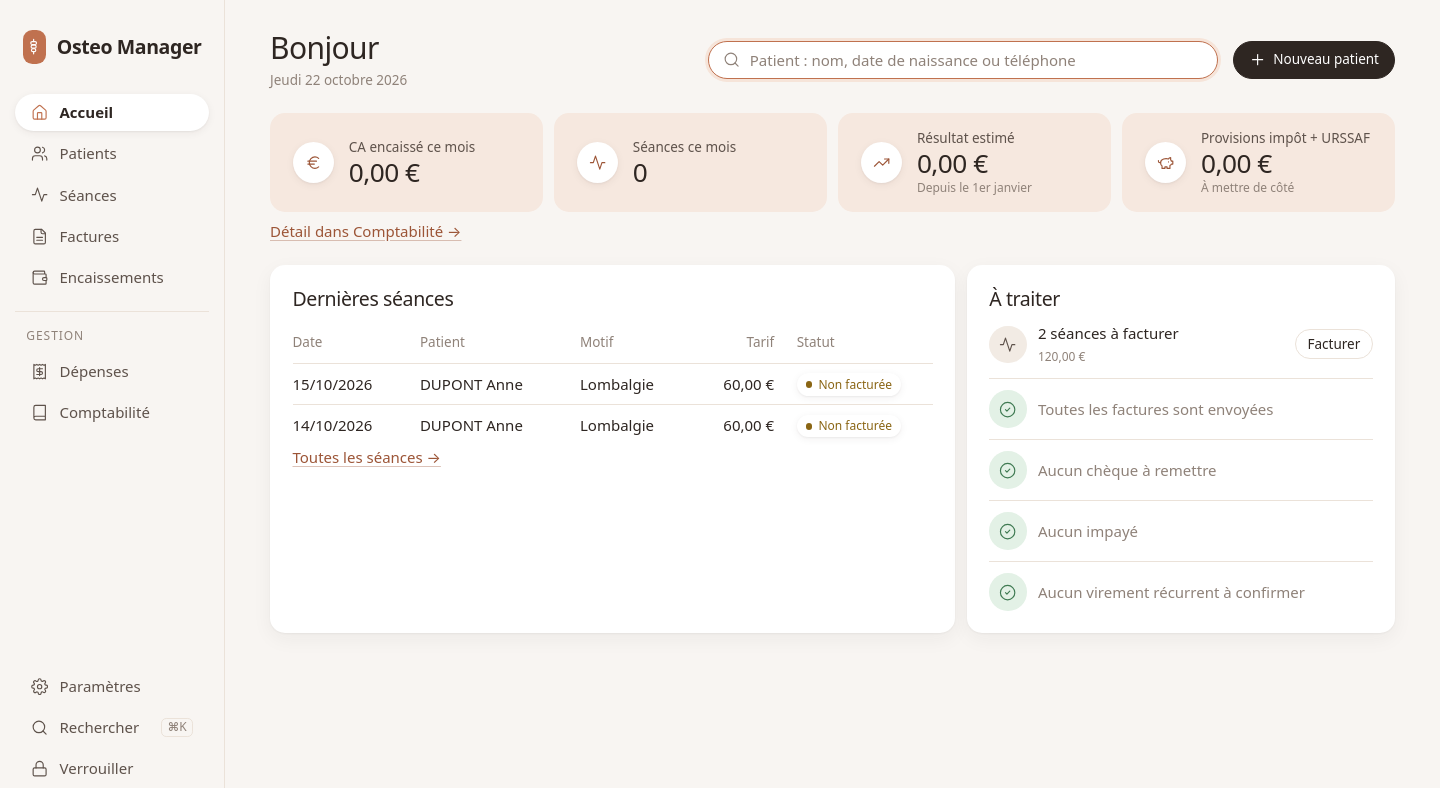
Test case: une erreur de validation s'affiche
This screenshot has width=1440, height=788.
What coordinates should you click on to do the following:
click the button with aria-label "Facturer : 2 séances à facturer"
I would click on:
 (1334, 344)
Its box is [1295,329,1372,359].
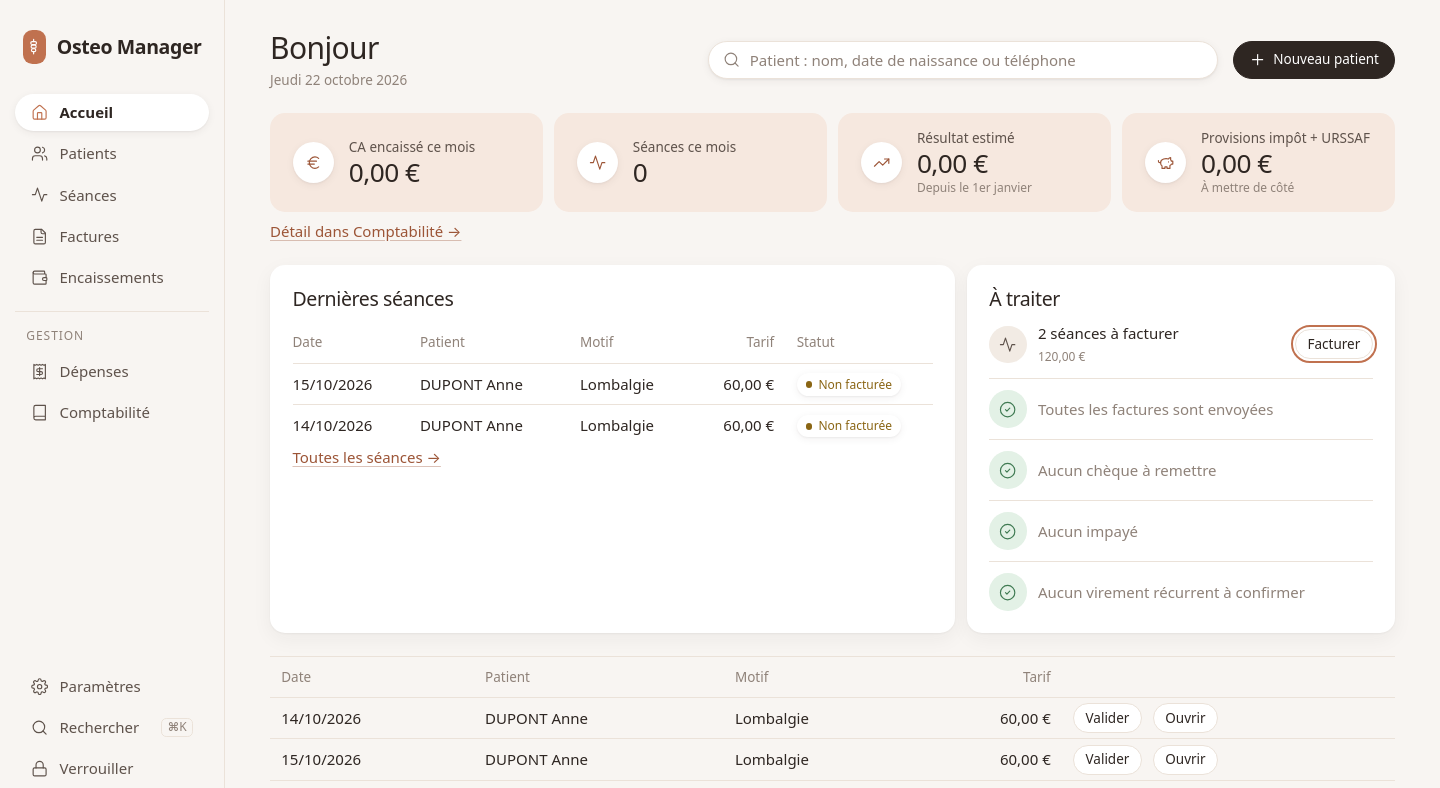
What coordinates should you click on to do the following:
click the 1st button "Valider"
I would click on:
 (1108, 718)
Its box is [1073,703,1142,733].
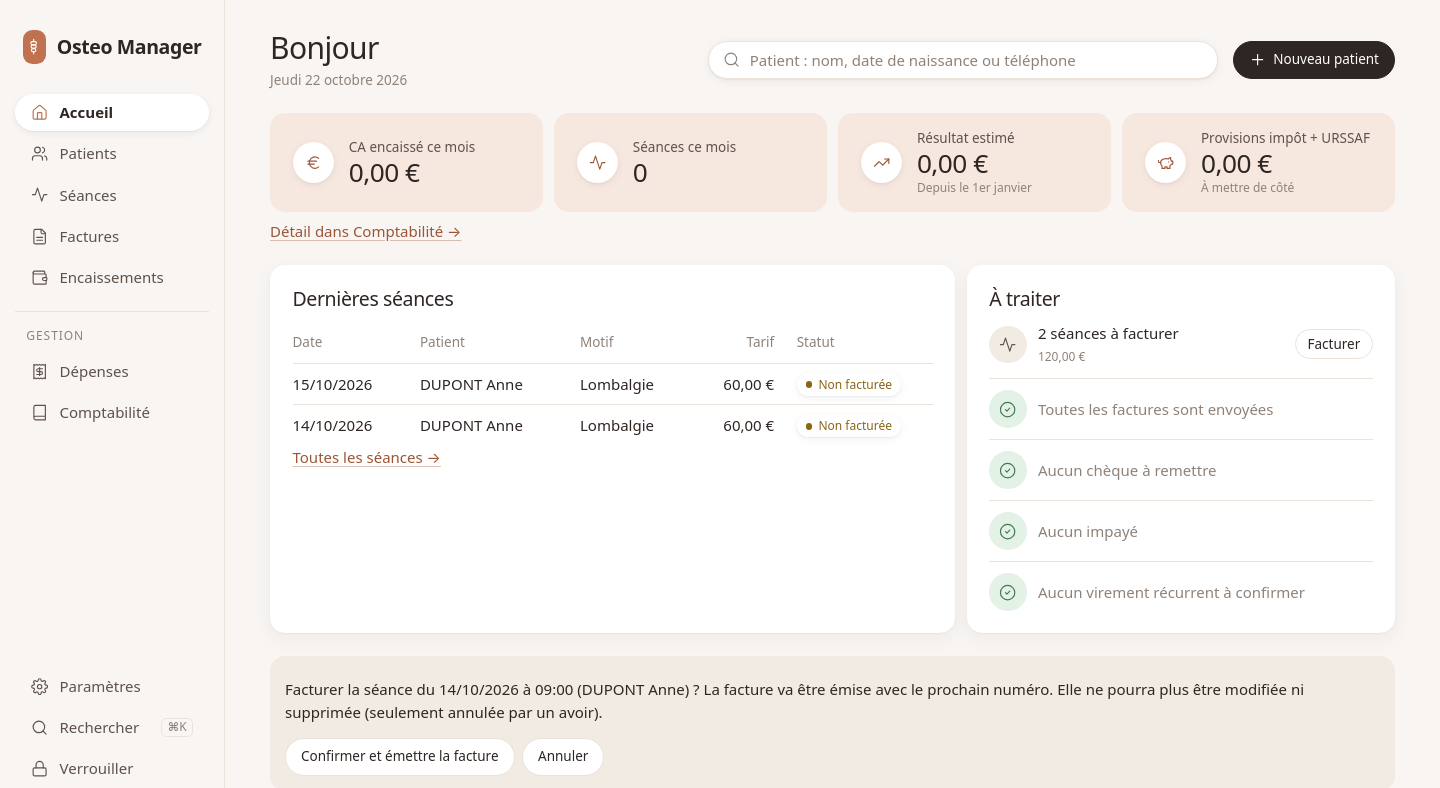
What coordinates should you click on to do the following:
click the button "Confirmer et émettre la facture"
I would click on:
 (400, 757)
Its box is [285,738,514,776].
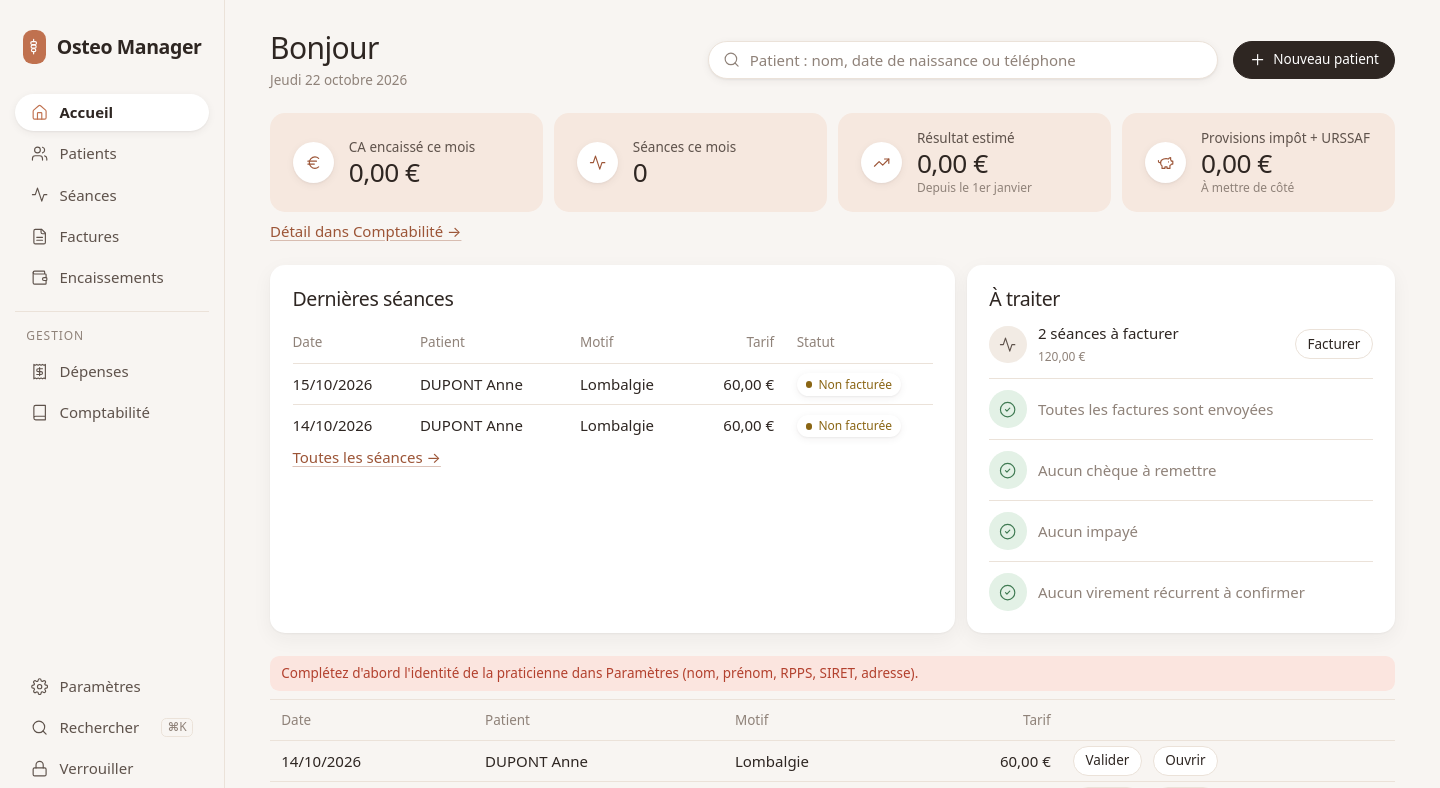
Check: the message is shown, box [270,656,1395,691]
